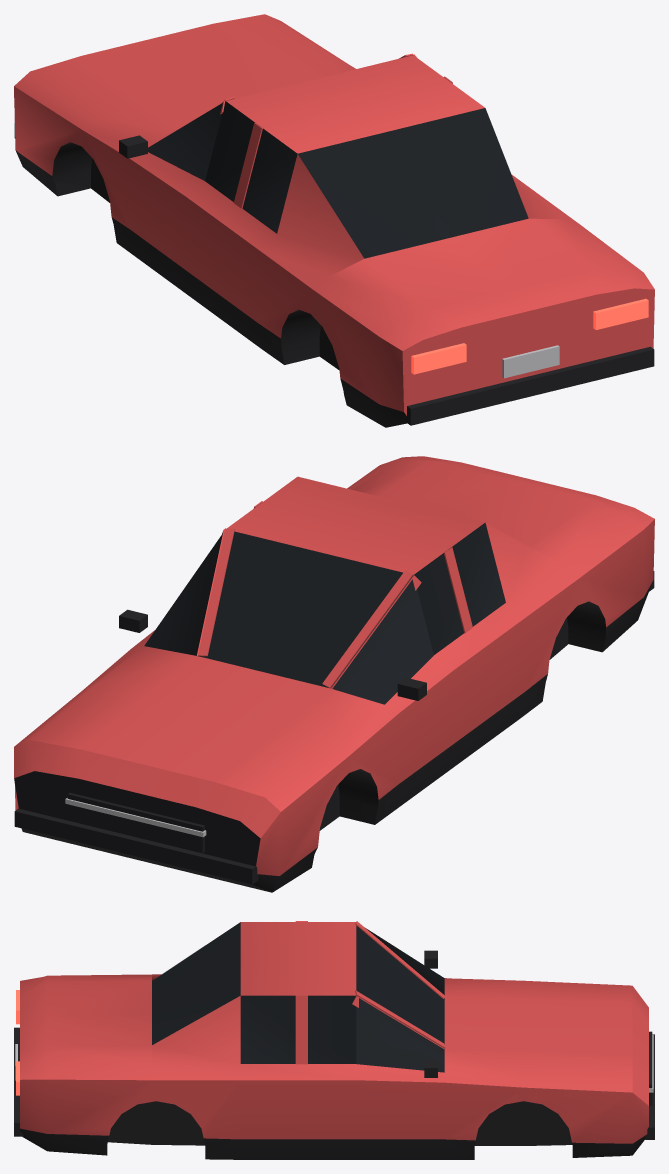
The model's file is car_sedan.glb.
3 renders of one model, top to bottom at view 1: azimuth 30°, elevation 25°; view 2: azimuth 150°, elevation 25°; view 3: azimuth 270°, elevation 25°, orthographic. The views are drawn at different scales.
Visible parts, largest first — view 1: voltBody; view 2: voltBody; view 3: voltBody.
Boxes of the visible parts, x1,y1,x2,y2 form: voltBody: (14,14,654,427); voltBody: (14,456,654,892); voltBody: (14,921,654,1159).
Bounding box in the file's own units: 2.04 × 1.24 × 4.71.
